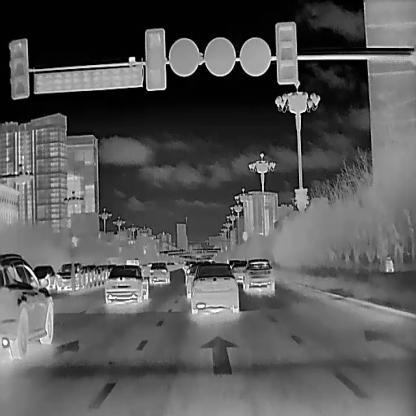car: (0, 252, 53, 358), (190, 263, 237, 312), (104, 263, 148, 304), (243, 259, 274, 294), (55, 262, 84, 290), (29, 264, 55, 293), (147, 260, 170, 283), (186, 263, 201, 297), (232, 259, 248, 282)
light: (273, 21, 305, 94), (3, 36, 33, 101), (144, 29, 169, 92)
sign: (168, 33, 203, 78), (237, 34, 271, 78), (203, 38, 235, 78)
